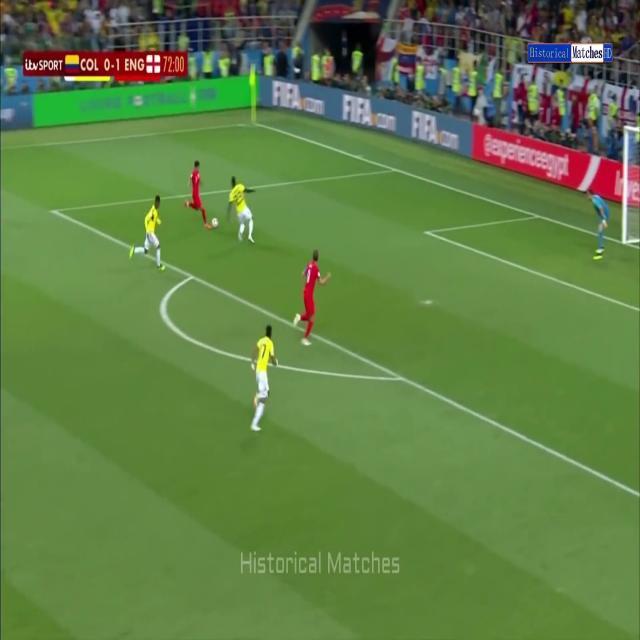Ball: (212, 216, 220, 230)
GoalKeeper: (586, 192, 611, 256)
TEAM 1: (247, 324, 277, 432), (138, 196, 166, 270), (226, 180, 256, 248)
TEAM 2: (295, 250, 329, 345), (185, 161, 212, 229)
